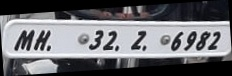character: (12, 29, 34, 52), (31, 29, 52, 51), (87, 29, 104, 50), (182, 29, 197, 52), (129, 30, 146, 50), (194, 30, 211, 50), (102, 29, 117, 50), (170, 30, 185, 51), (206, 31, 221, 50)
